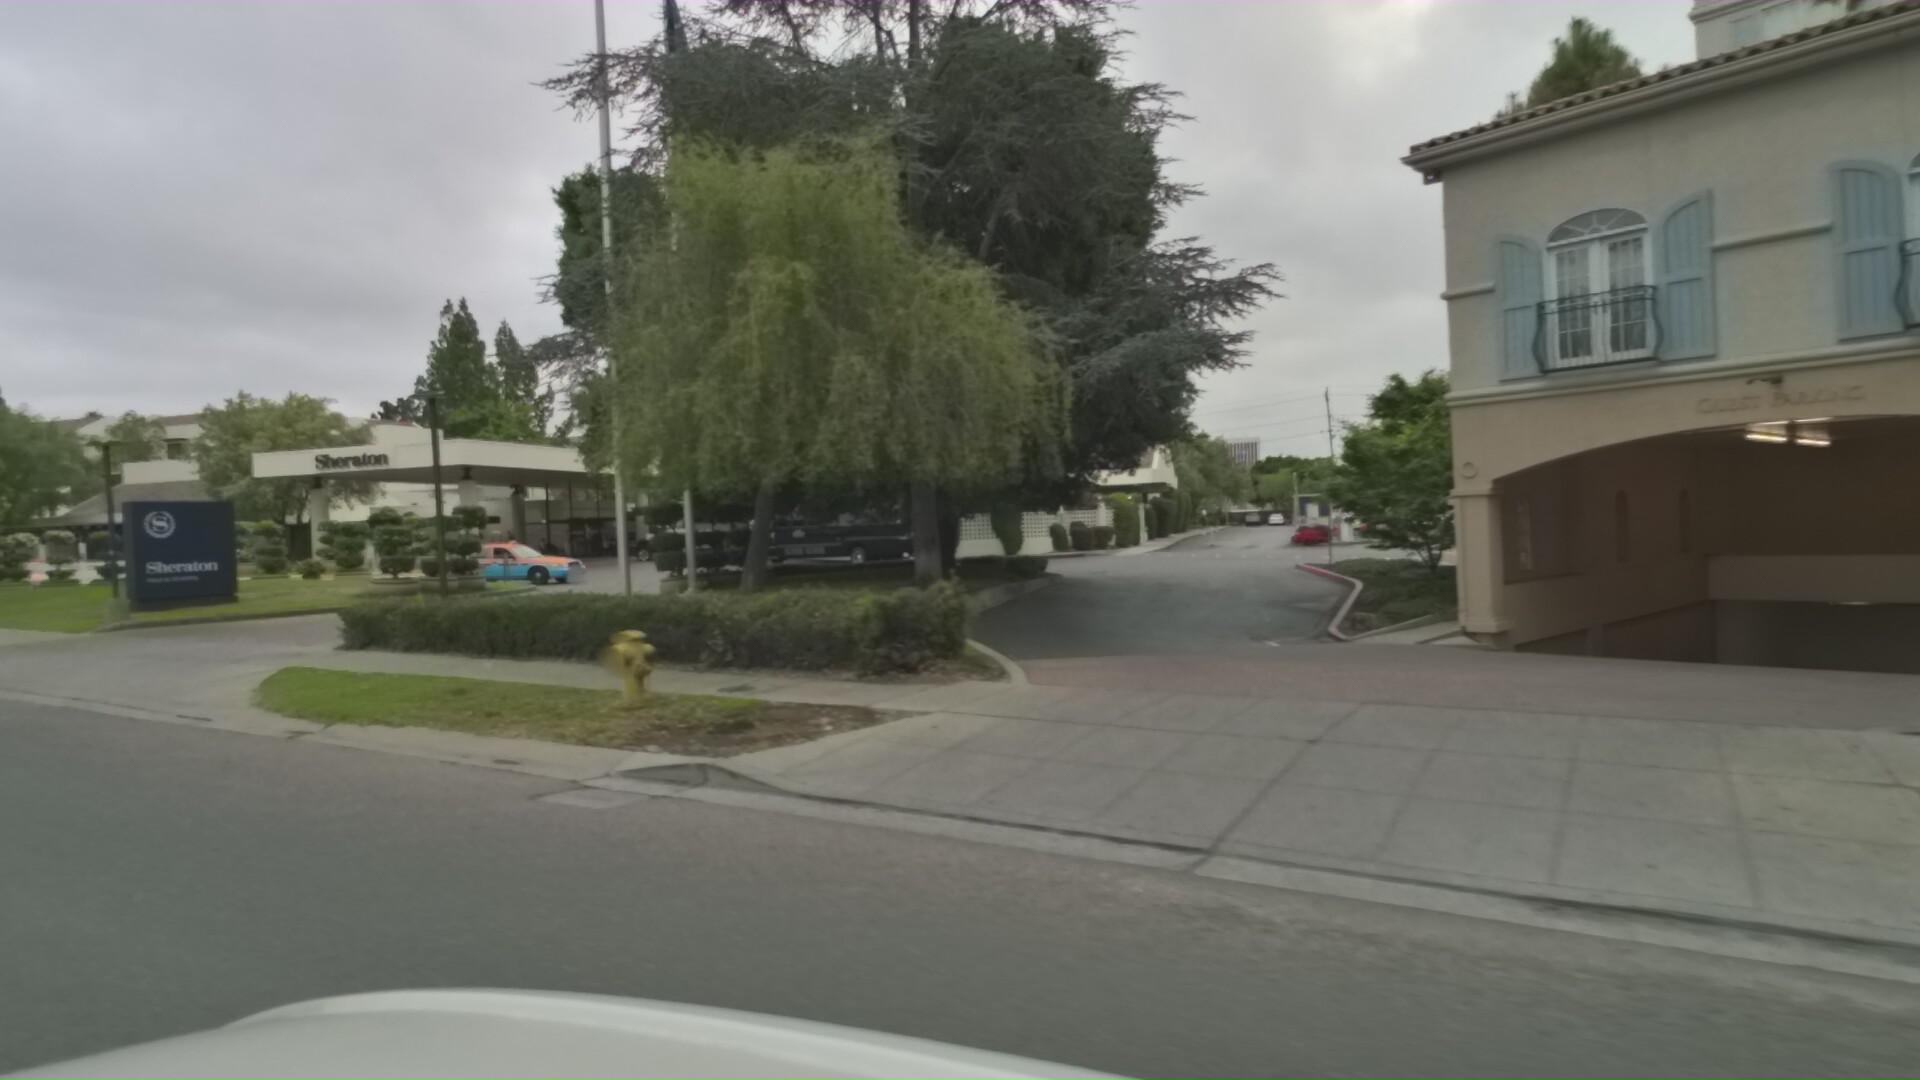bus: (725, 473, 972, 563)
car: (427, 531, 607, 585), (626, 520, 729, 556), (11, 547, 94, 592), (684, 520, 735, 560)
